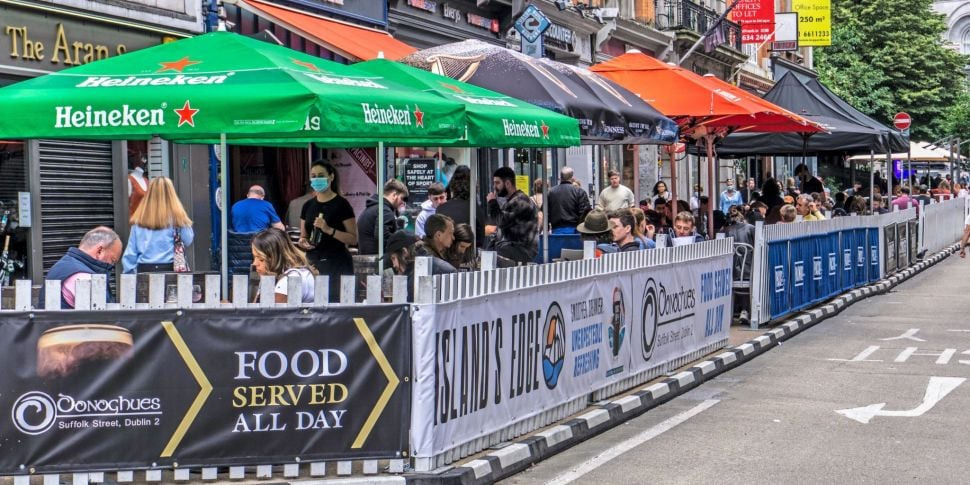property sign: (729, 1, 777, 48), (791, 1, 837, 49)
vinyl banner: (416, 247, 763, 458), (1, 302, 413, 477), (764, 224, 884, 323), (883, 215, 938, 281)
